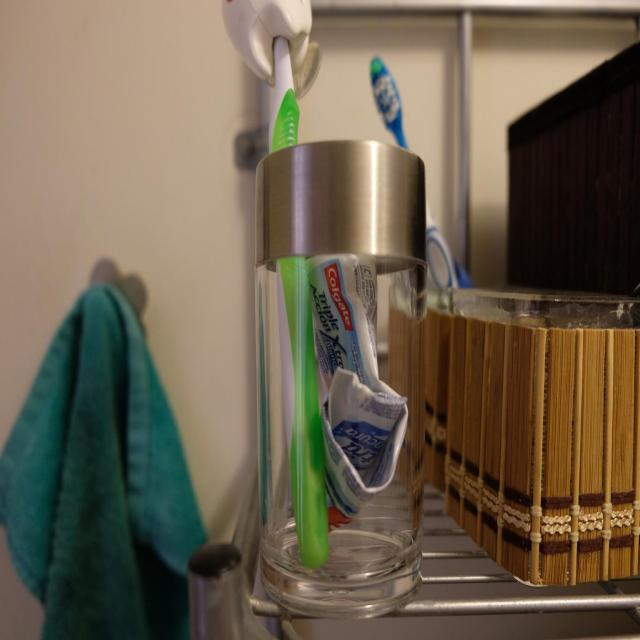Toothpaste: (301, 248, 410, 523)
